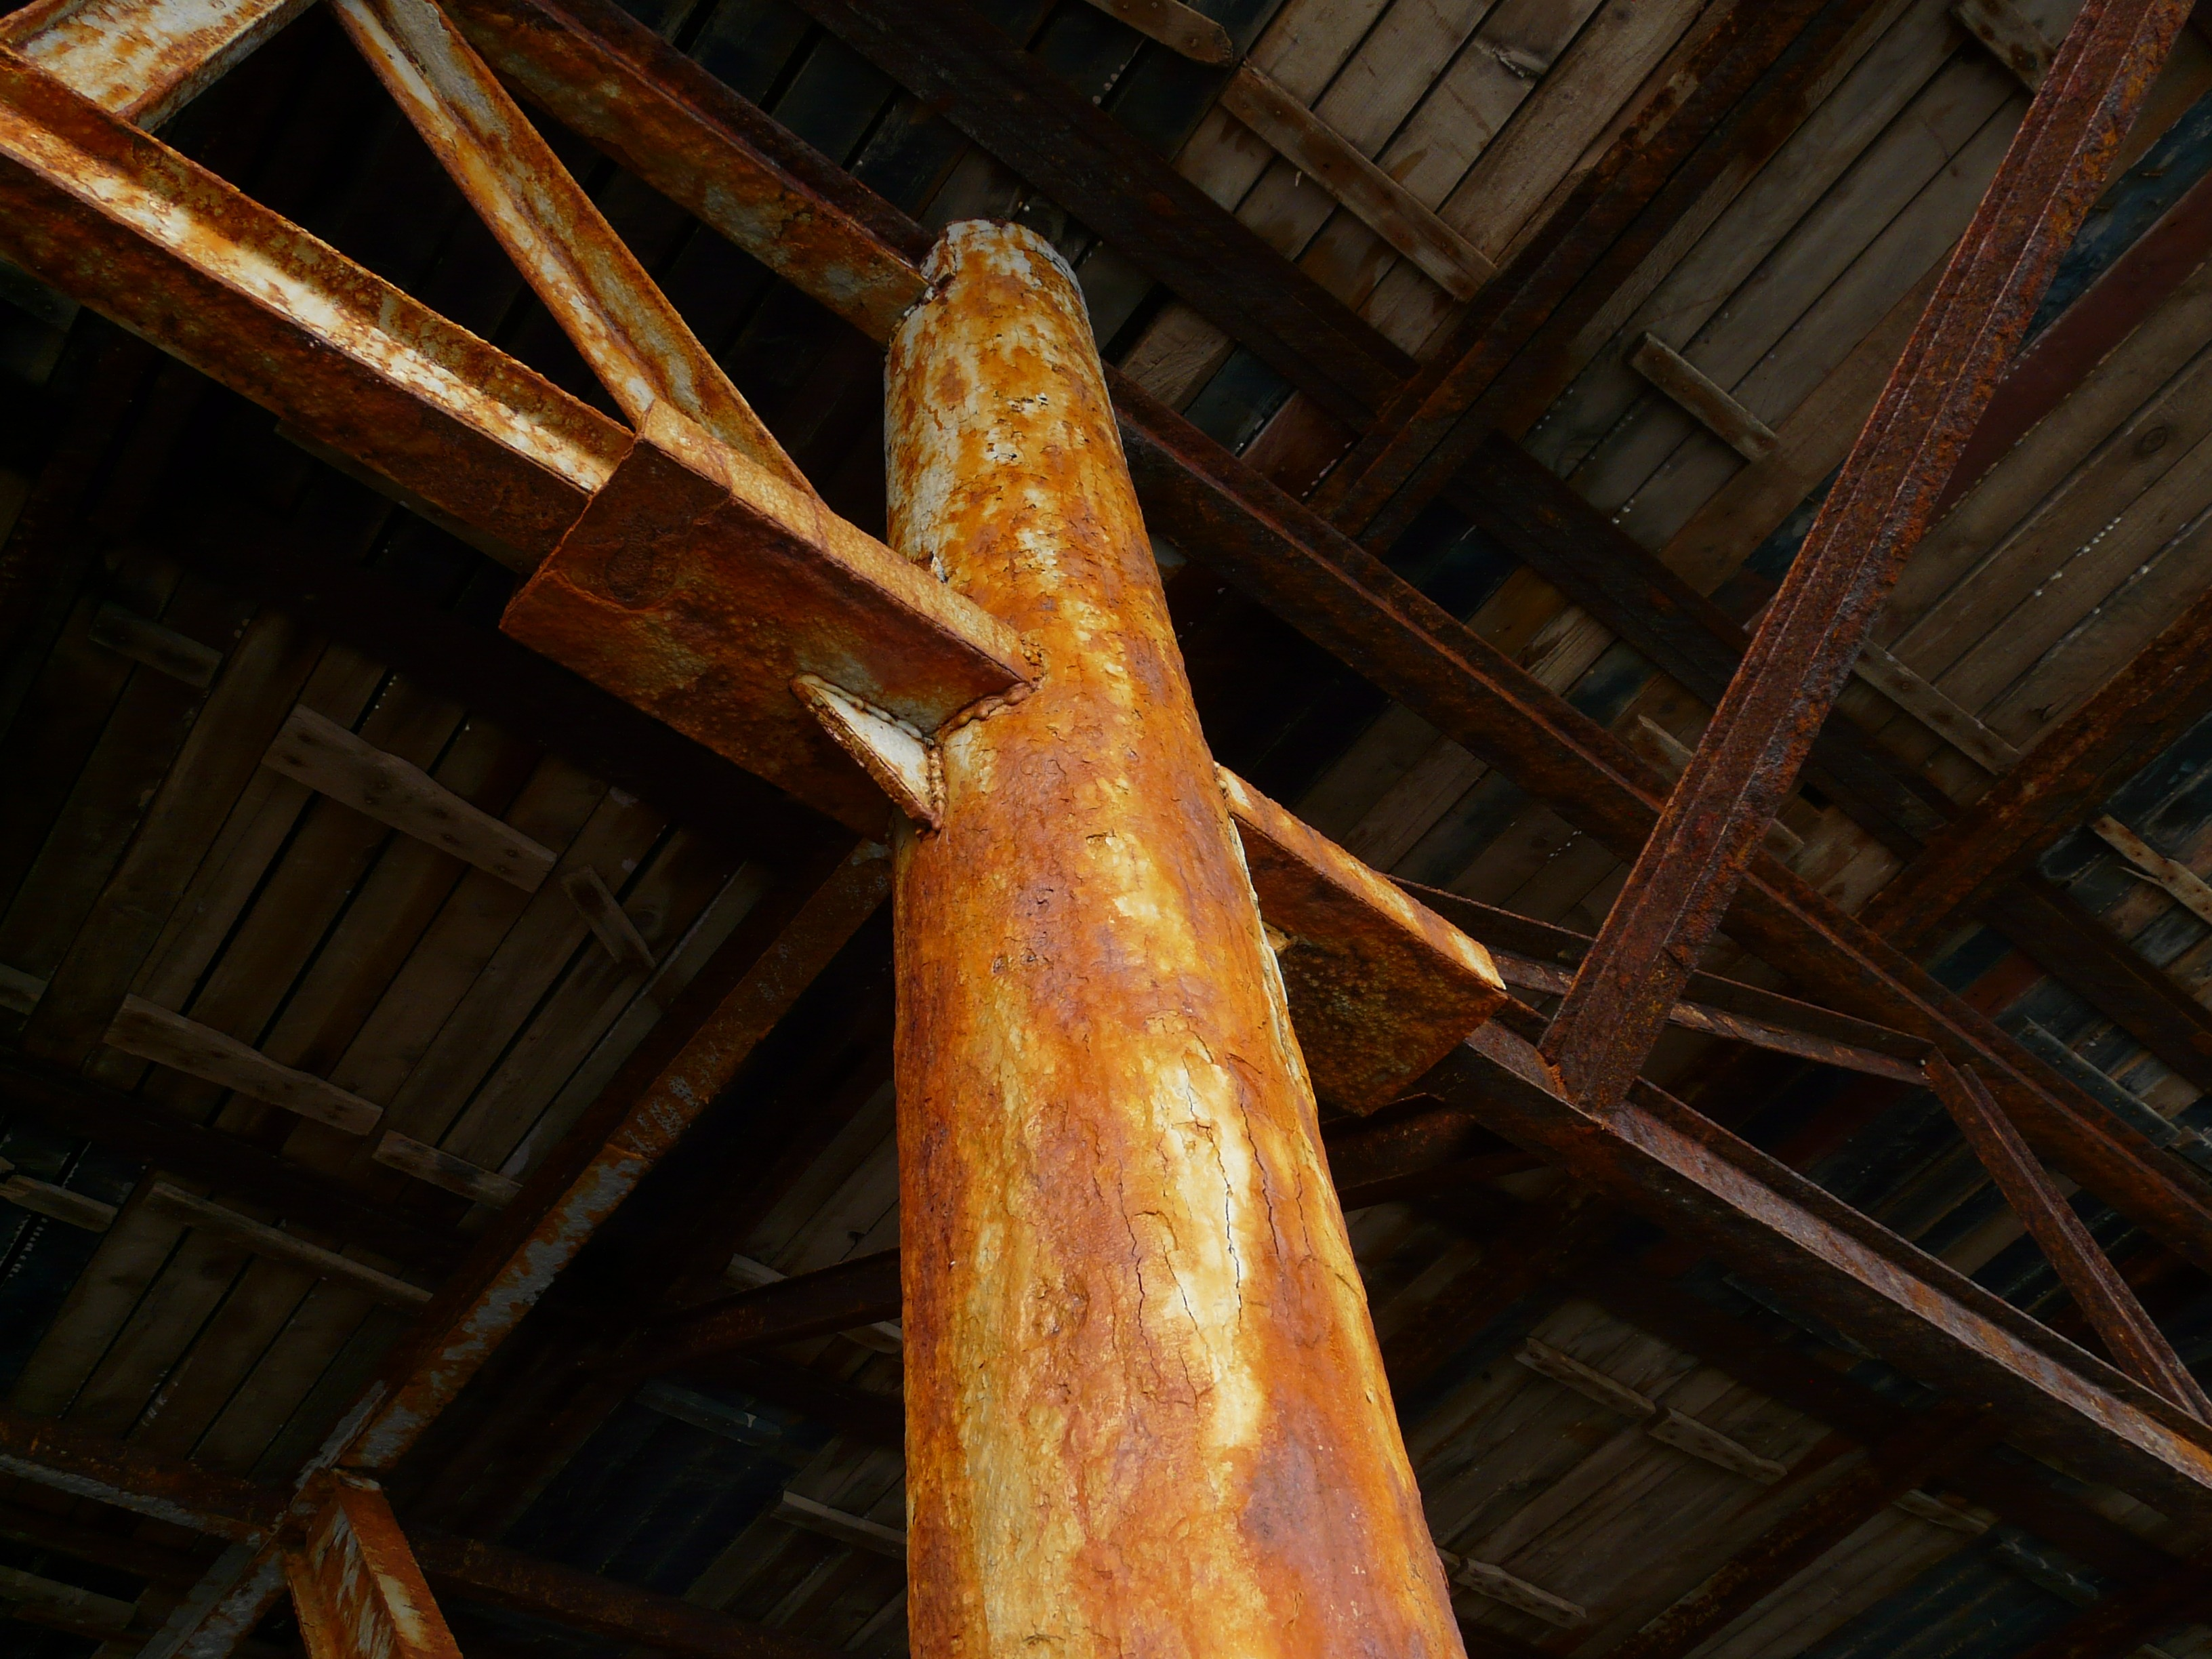rust: (881, 272, 1453, 1635), (73, 164, 455, 505), (1566, 711, 1789, 1066), (1822, 261, 2027, 620), (526, 502, 820, 695)
